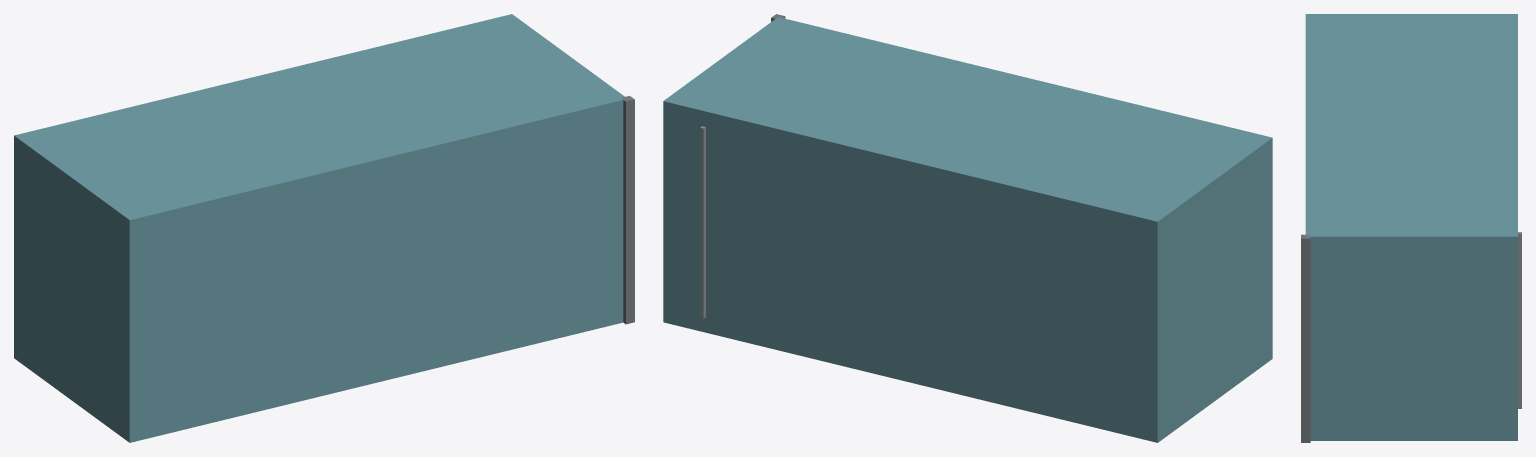
File: container-20dv-lod0.glb
3 renders of one model, left to right at view 1: azimuth 30°, elevation 25°; view 2: azimuth 150°, elevation 25°; view 3: azimuth 270°, elevation 25°, orthographic. The views are drawn at different scales.
Visible parts, largest first — view 1: body, corner; view 2: body, rib; view 3: body, corner, rib.
Boxes of the visible parts, x1=… form: body: x1=14, y1=14, x2=624, y2=442; corner: x1=621, y1=95, x2=634, y2=324; body: x1=663, y1=17, x2=1272, y2=442; rib: x1=700, y1=126, x2=705, y2=318; body: x1=1305, y1=14, x2=1517, y2=440; corner: x1=1301, y1=234, x2=1310, y2=442; rib: x1=1518, y1=232, x2=1521, y2=408.
Bounding box in the file's own units: 6.12 × 2.59 × 2.54.
